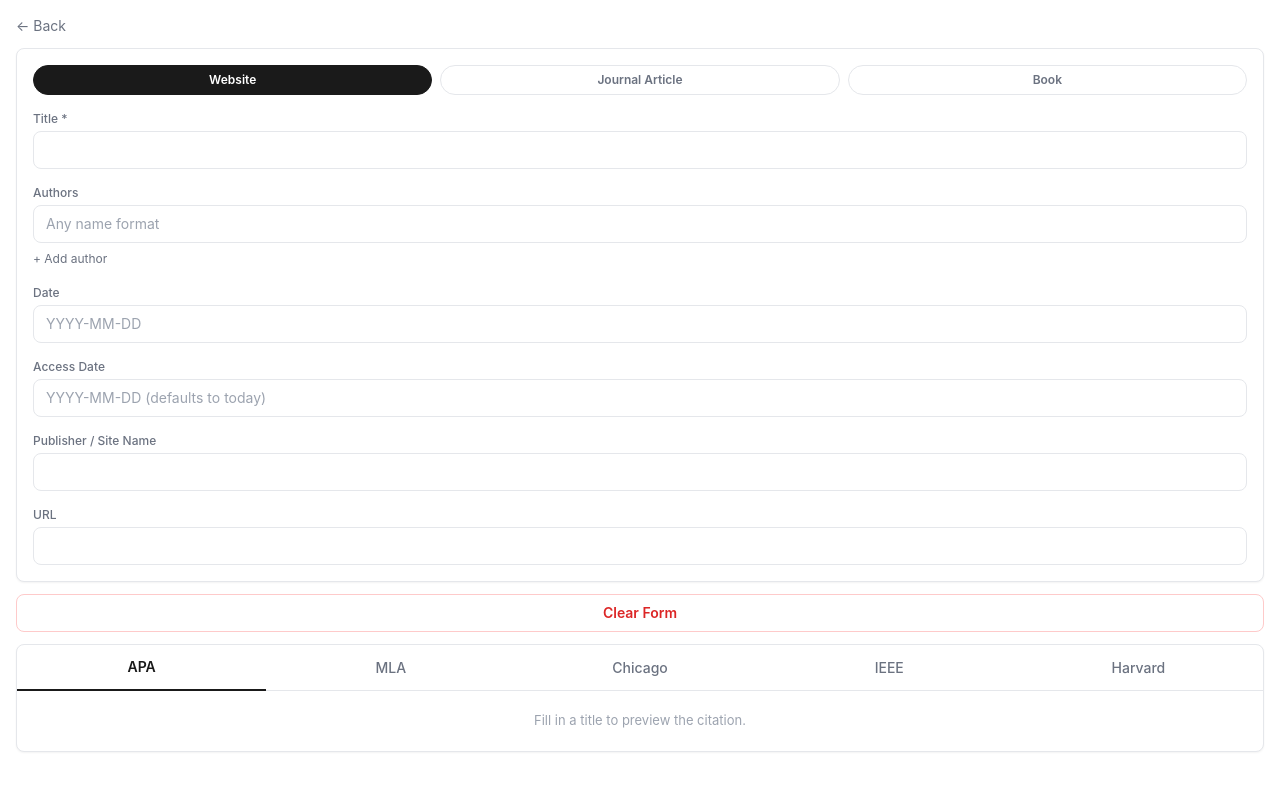
ManualEntryForm — source type switching › does not show Access Date field for Book
The width and height of the screenshot is (1280, 800).
Click the button "Book".
click(1047, 80)  # box [848,65,1247,95]
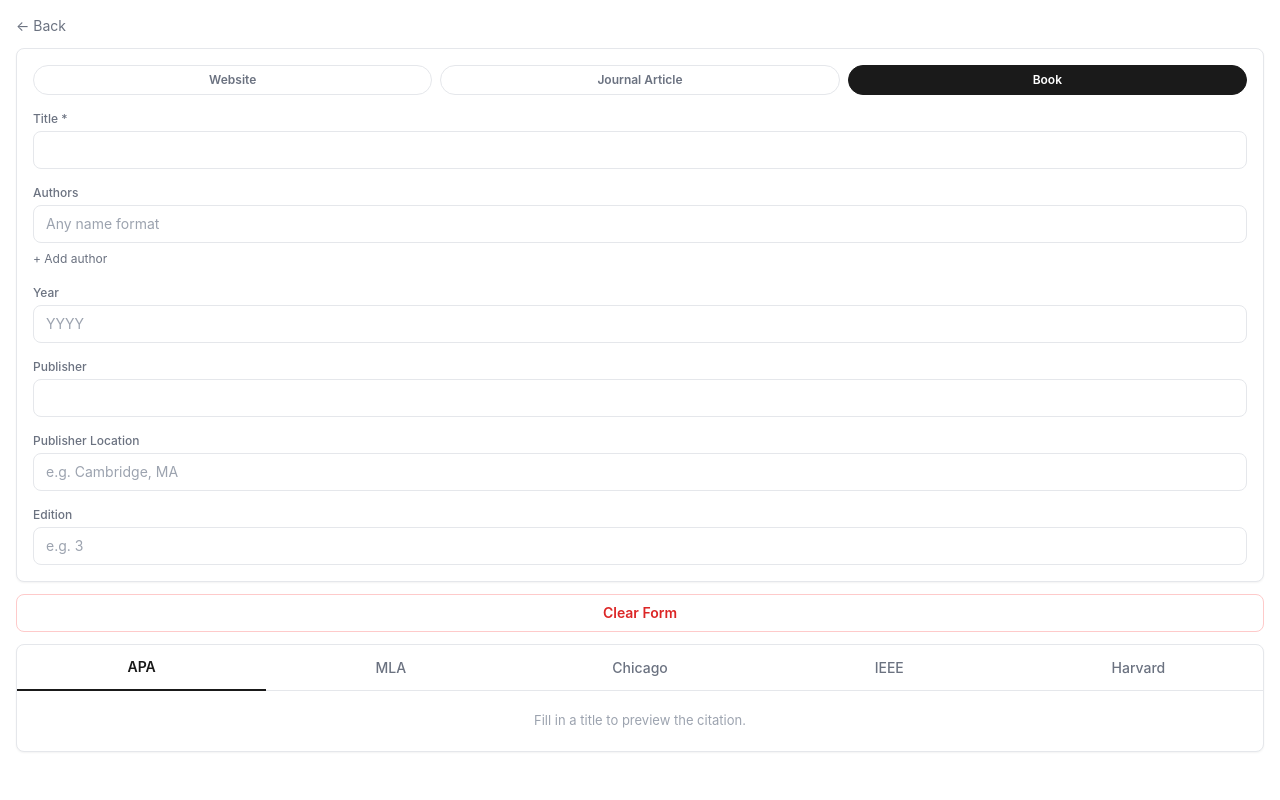
Expected: the text "Access Date" is gone
